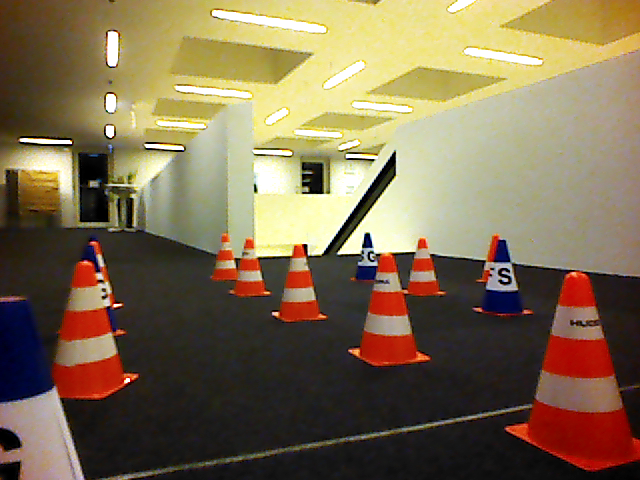orangeconesmall: (353, 253, 427, 368), (275, 244, 329, 322), (229, 236, 272, 299), (212, 234, 241, 282)
